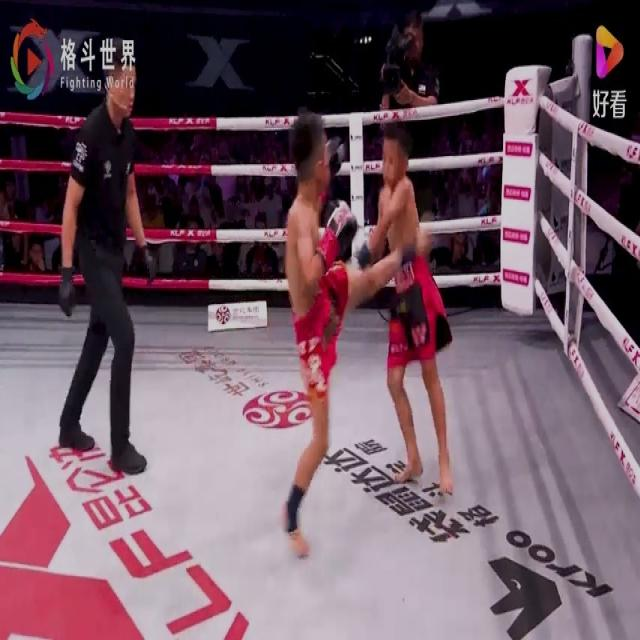fight: (252, 100, 469, 564)
non-fight: (46, 45, 160, 483)
